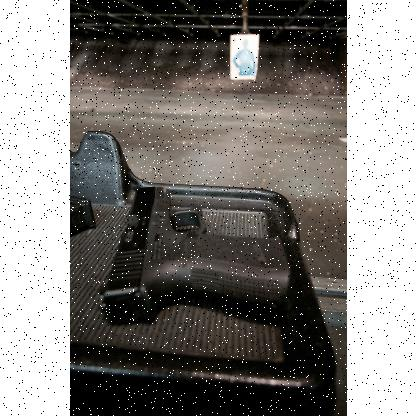gun: (98, 185, 288, 325)
